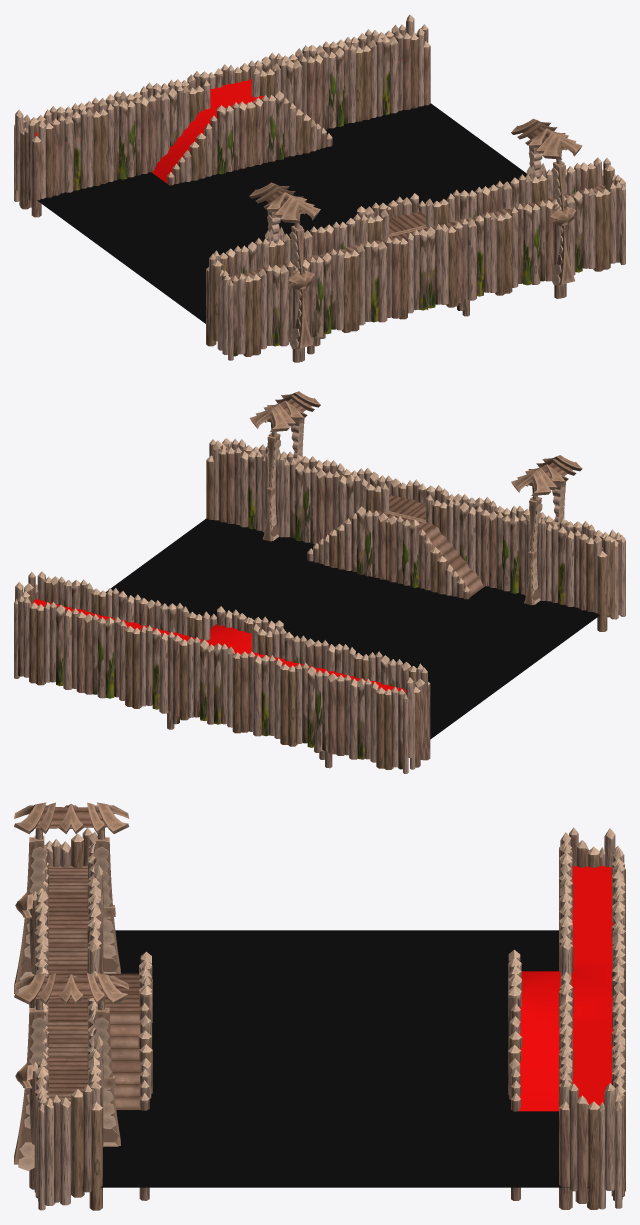
The model's file is Terrain3.FBX.
3 views of the same model, one above another, from view 1: azimuth 30°, elevation 25°; view 2: azimuth 150°, elevation 25°; view 3: azimuth 270°, elevation 25° (orthographic). The views are drawn at different scales.
Visible parts, largest first — view 1: Wall2Terrain003, Wall1Terrain003, Terrain003, PlayerPath001, WallFloor001; view 2: Wall1Terrain003, Wall2Terrain003, Terrain003, WallFloor001, PlayerPath001; view 3: Terrain003, Wall2Terrain003, Wall1Terrain003, PlayerPath001, WallFloor001.
Part boxes in pixels (x1,y1,x2,y2): Wall2Terrain003: (206,118,625,362); Wall1Terrain003: (14,14,430,217); Terrain003: (37,103,526,323); PlayerPath001: (35,60,403,183); WallFloor001: (229,185,604,280); Wall1Terrain003: (14,571,430,773); Wall2Terrain003: (206,391,625,631); Terrain003: (105,518,599,739); WallFloor001: (234,475,603,596); PlayerPath001: (31,599,405,693); Terrain003: (82,930,589,1187); Wall2Terrain003: (14,802,152,1210); Wall1Terrain003: (508,827,625,1209); PlayerPath001: (519,866,612,1111); WallFloor001: (48,865,140,1109).
Size of what is drawn, in the model's own units: 1984 by 922 by 1961.
